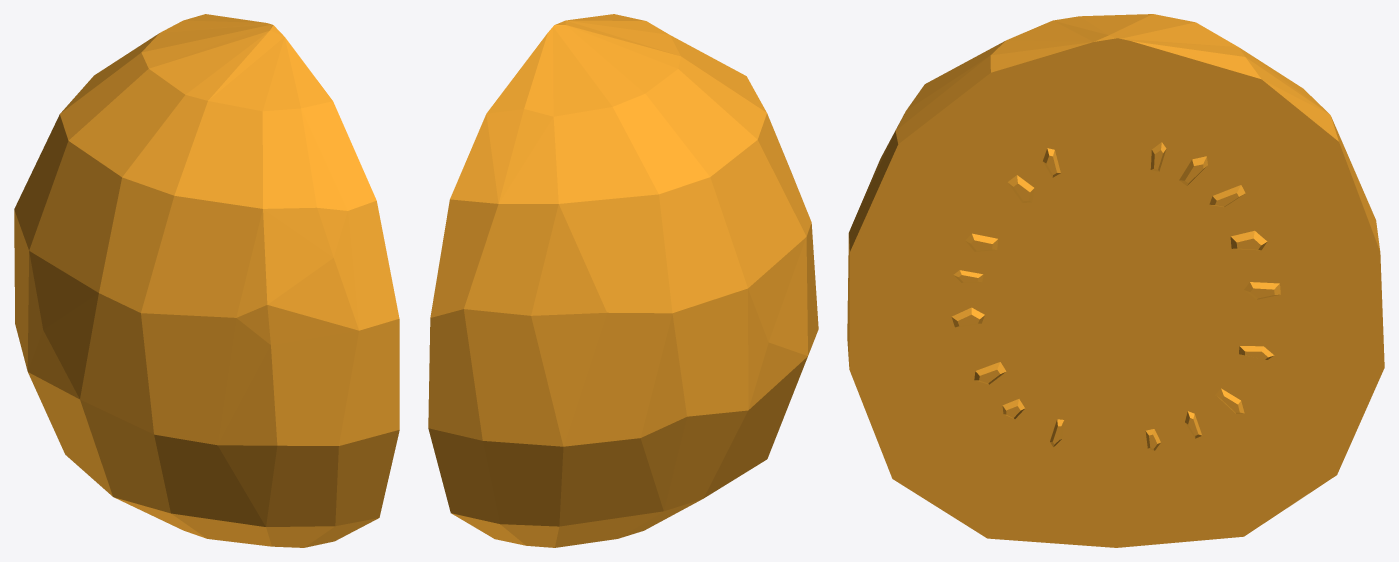
The model's file is SM_Watermelon_Half.fbx.
3 renders of one model, left to right at view 1: azimuth 30°, elevation 25°; view 2: azimuth 150°, elevation 25°; view 3: azimuth 270°, elevation 25°, orthographic. The views are drawn at different scales.
Parts seen in each view (by area): view 1: watermelon-half; view 2: watermelon-half; view 3: watermelon-half.
Boxes of the visible parts, left/top/right/bottom form: watermelon-half: left=14, top=14, right=399, bottom=547; watermelon-half: left=428, top=14, right=818, bottom=547; watermelon-half: left=847, top=14, right=1384, bottom=547.
Bounding box in the file's own units: 0.2068 × 0.413 × 0.3946.
